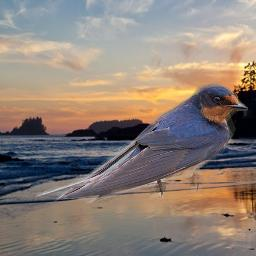Swallow: (36, 82, 248, 203)
